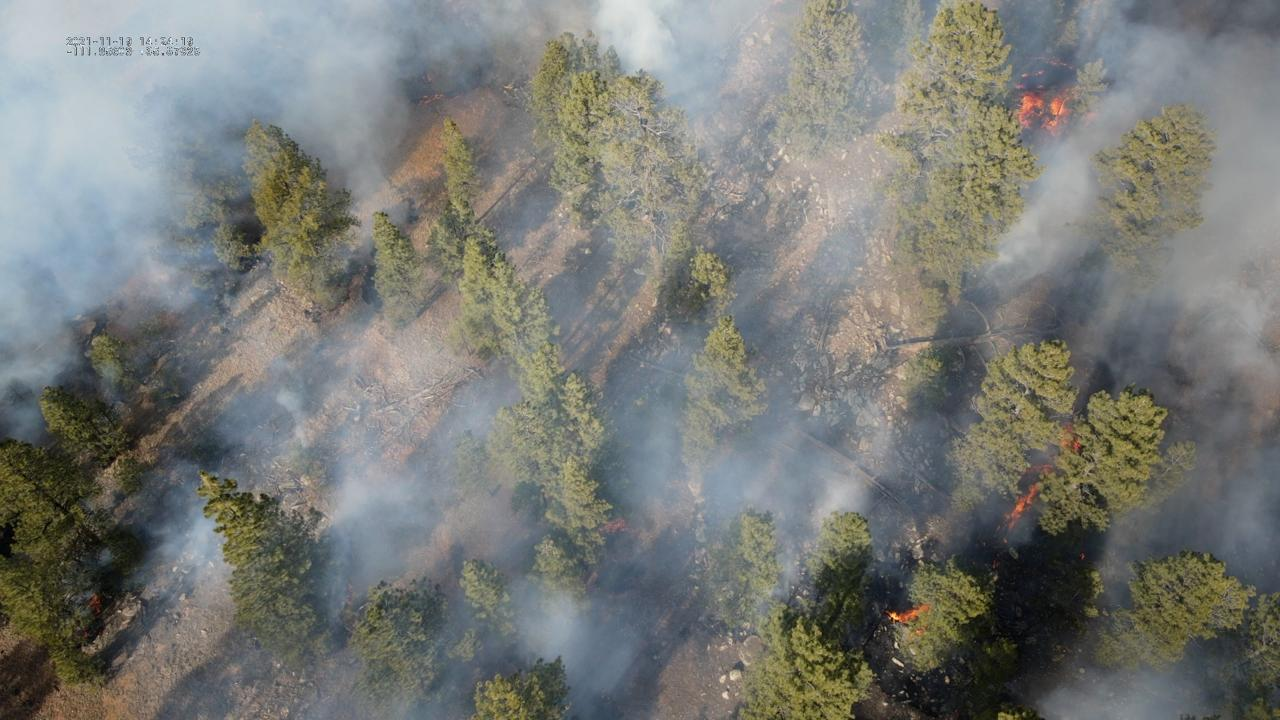fire: (1014, 92, 1074, 136), (1002, 483, 1039, 530), (884, 602, 930, 626), (1058, 421, 1082, 450), (1020, 463, 1055, 476), (87, 593, 105, 612), (417, 93, 445, 105), (1014, 83, 1024, 90), (1079, 551, 1085, 561), (1035, 70, 1044, 76), (84, 630, 90, 639), (1036, 84, 1045, 89), (1020, 73, 1028, 78), (1003, 538, 1008, 543)
smoke: (0, 0, 1280, 720)
